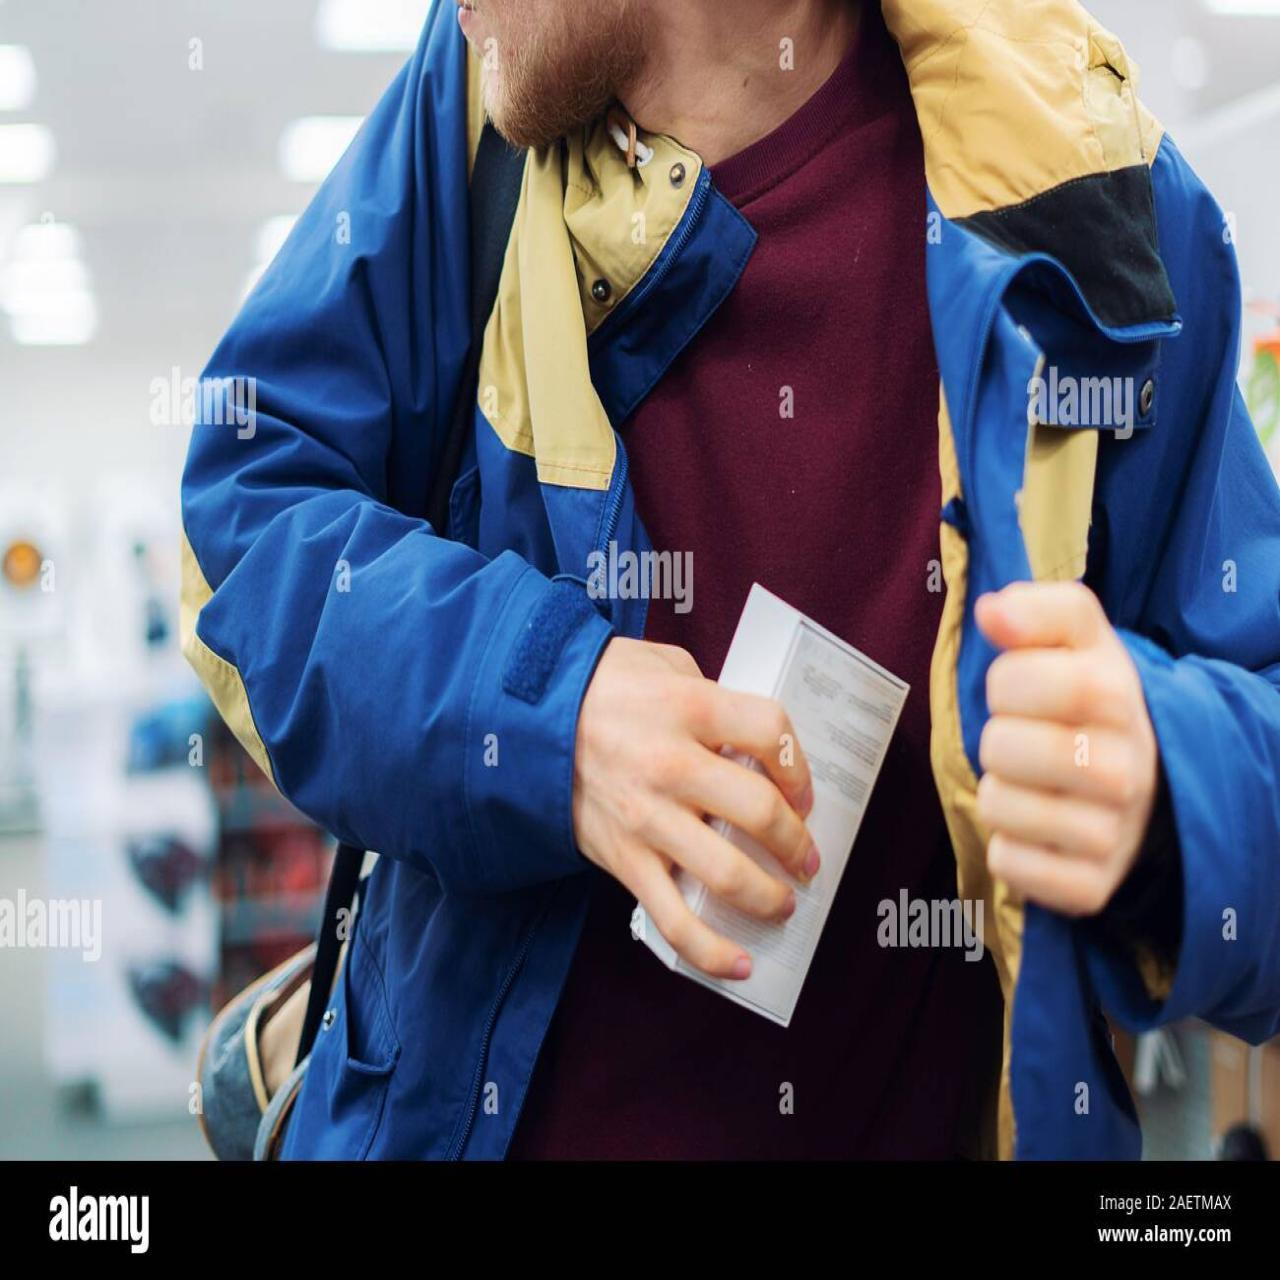Shoplifting: (268, 181, 1260, 1145)
